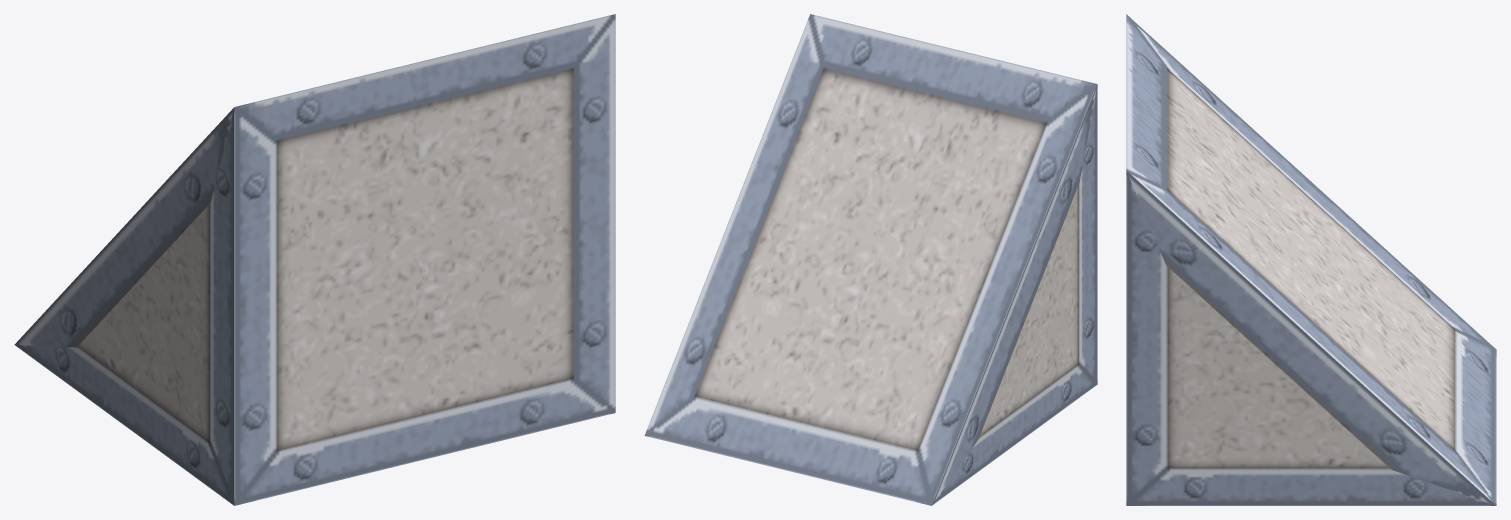
File: 45blockMarble2.fbx
3 views of the same model, side by side, from view 1: azimuth 30°, elevation 25°; view 2: azimuth 150°, elevation 25°; view 3: azimuth 270°, elevation 25° (orthographic). The views are drawn at different scales.
Visible parts, largest first — view 1: Cube; view 2: Cube; view 3: Cube.
Boxes of the visible parts, x1,y1,x2,y2 form: Cube: [14, 14, 615, 505]; Cube: [644, 14, 1097, 505]; Cube: [1126, 14, 1496, 505].
Size of the model in its own units: 200 by 200 by 200.
